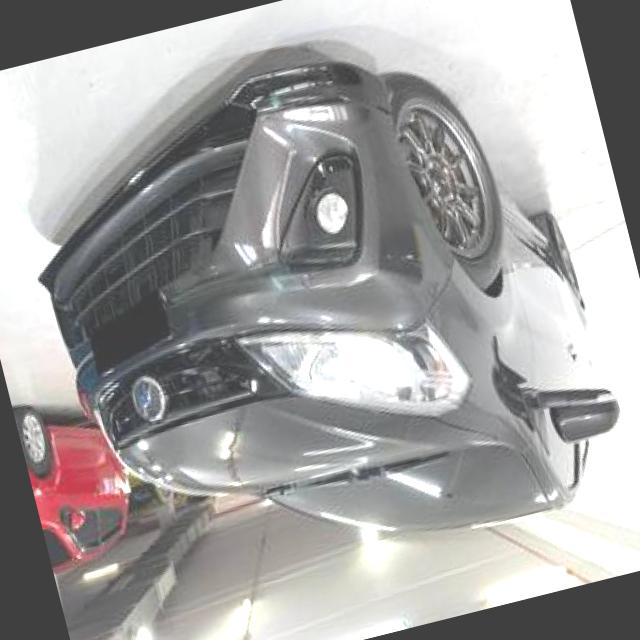PeroduaMyvi: (1, 3, 640, 624)
